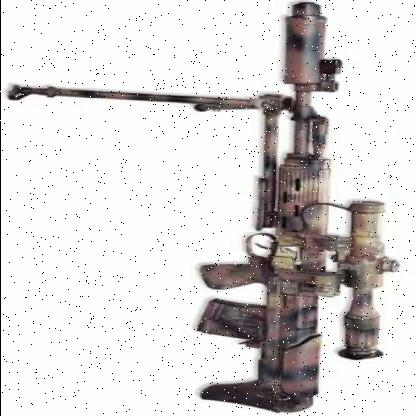rifle: (171, 0, 416, 409)
